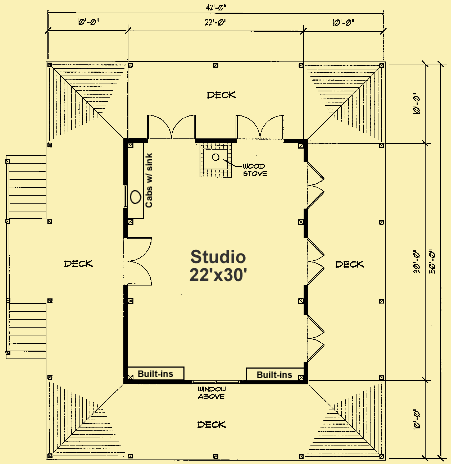door: (122, 235, 154, 287), (236, 112, 286, 144), (142, 114, 197, 143), (301, 314, 326, 361), (305, 158, 326, 207), (306, 234, 325, 286), (191, 375, 243, 385)
